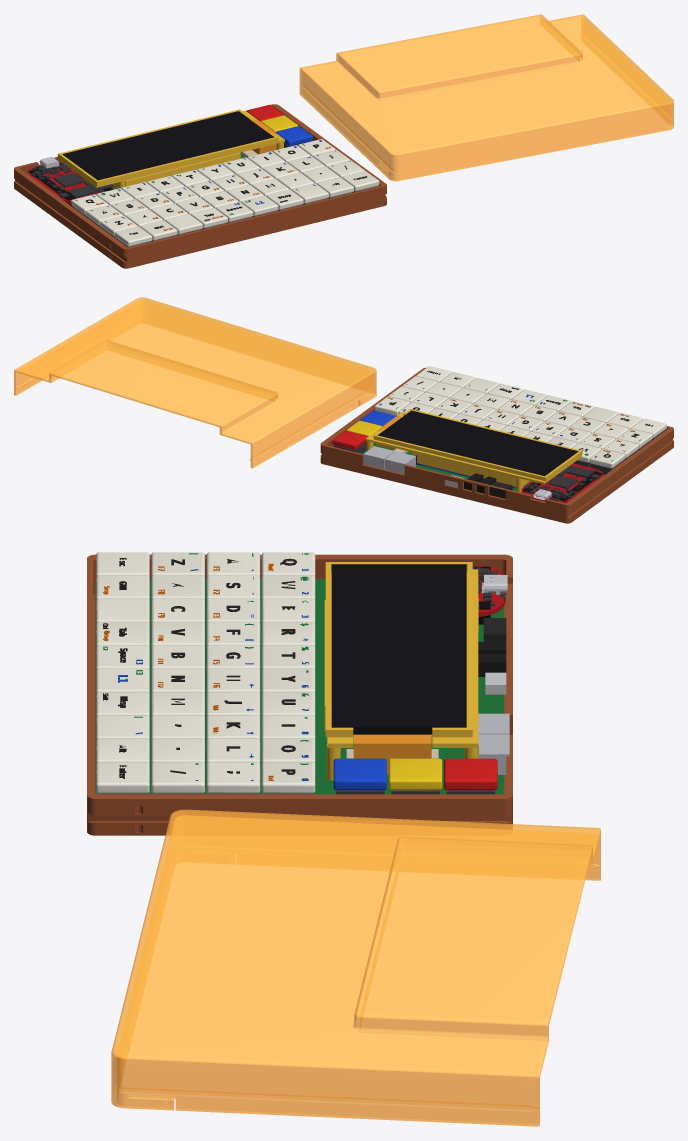
The model's file is beside_sienna.glb.
3 renders of one model, top to bottom at view 1: azimuth 30°, elevation 25°; view 2: azimuth 150°, elevation 25°; view 3: azimuth 270°, elevation 25°, orthographic. The views are drawn at different scales.
Visible parts, largest first — view 1: Lid, Internals, Tray; view 2: Lid, Internals, Tray; view 3: Lid, Internals, Tray.
Part boxes in pixels (left/top/right/bottom): Lid: left=299, top=14, right=673, bottom=181; Internals: left=27, top=104, right=379, bottom=247; Tray: left=14, top=104, right=386, bottom=268; Lid: left=14, top=297, right=376, bottom=468; Internals: left=332, top=366, right=666, bottom=502; Tray: left=320, top=367, right=673, bottom=523; Lid: left=111, top=809, right=600, bottom=1126; Internals: left=95, top=552, right=509, bottom=794; Tray: left=87, top=554, right=512, bottom=835.
Size of the model in its own units: 0.3903 by 0.0227 by 0.1583.
